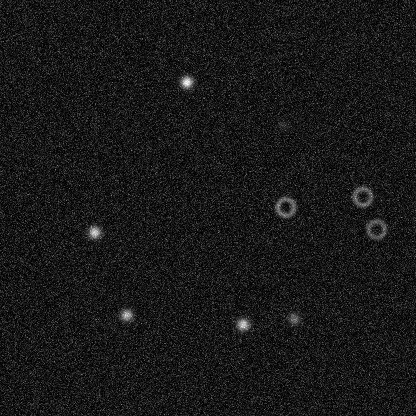Ring: (273, 194, 297, 218), (364, 217, 388, 241), (350, 184, 374, 208)
Spot: (86, 224, 102, 240), (118, 306, 134, 322), (234, 316, 250, 332), (275, 116, 291, 132), (178, 73, 194, 89), (285, 310, 301, 326)
